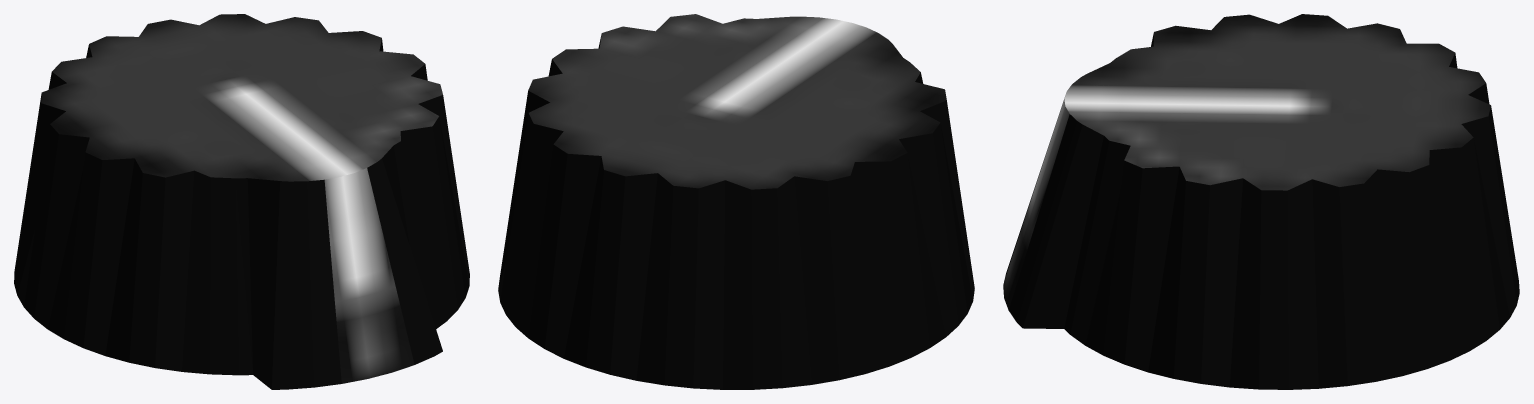
The model's file is knob.glb.
The picture shows the model from 3 angles, left to right: view 1: azimuth 30°, elevation 25°; view 2: azimuth 150°, elevation 25°; view 3: azimuth 270°, elevation 25°; orthographic projection. The views are drawn at different scales.
Visible parts, largest first — view 1: Cylinder.864; view 2: Cylinder.864; view 3: Cylinder.864.
Boxes of the visible parts, x1,y1,x2,y2 form: Cylinder.864: (14,14,469,389); Cylinder.864: (498,14,974,389); Cylinder.864: (1003,14,1519,389).
Size of the model in its own units: 0.0339 by 0.0148 by 0.0368.
Materials: 1 (1 with a texture image).
